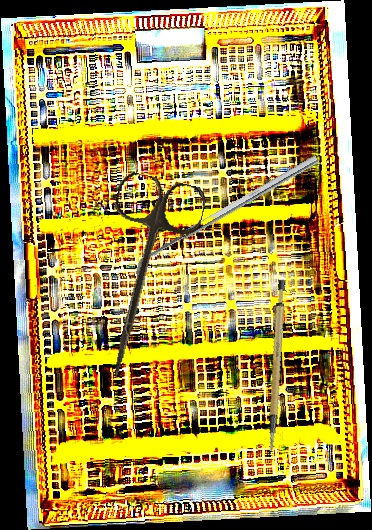Iris Scissors: (77, 169, 209, 387)
Scalpel Handle: (240, 277, 310, 454)
Spatula Surgical: (129, 155, 324, 277)
